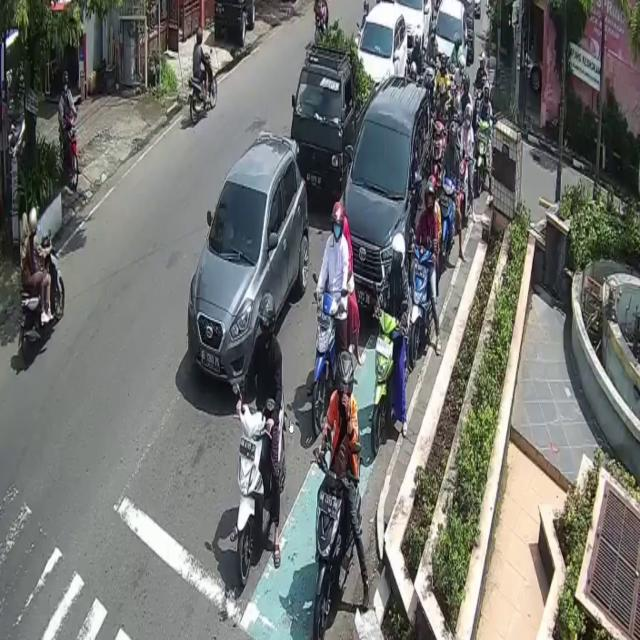bus: (234, 390, 290, 583), (313, 458, 360, 640), (18, 236, 65, 364), (371, 306, 399, 452), (314, 292, 343, 430), (410, 243, 433, 361), (188, 54, 216, 124), (63, 112, 82, 190), (476, 118, 494, 186), (442, 174, 457, 252)
motorcycle: (188, 131, 308, 393), (341, 77, 434, 322), (290, 42, 376, 200), (358, 0, 409, 84), (434, 0, 468, 95), (394, 0, 431, 58)
